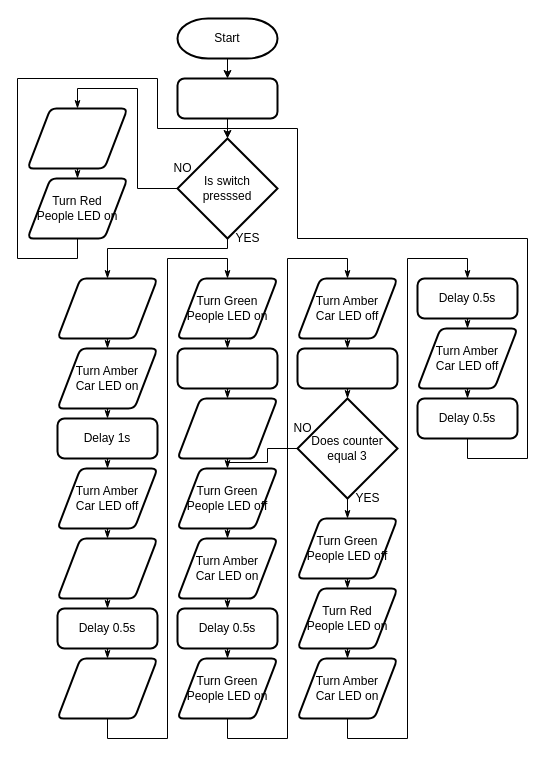
Some shapes in this 546 by 764 pixel diagram are drawn without their labels. Each missing label, with the centre of its shape:
"Delay 0.5s and Add 1 to counter" belongs at (x=347, y=368).
"Delay 3s and counter = 0" belongs at (x=227, y=368).
"Setup" belongs at (x=227, y=98).
"Turn Green Car LED off" belongs at (x=107, y=308).
"Turn Green Car LED on" belongs at (x=77, y=138).
"Turn Red Car LED off" belongs at (x=227, y=428).
"Turn Red Car LED on" belongs at (x=107, y=568).
"Turn Red People LED off" belongs at (x=107, y=688).
